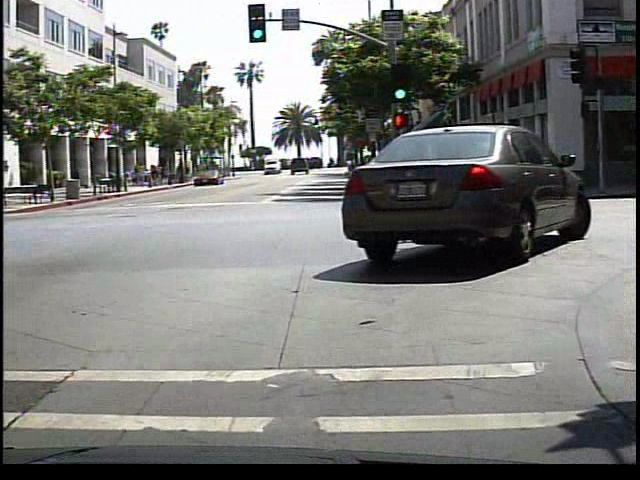person: (66, 161, 84, 192)
